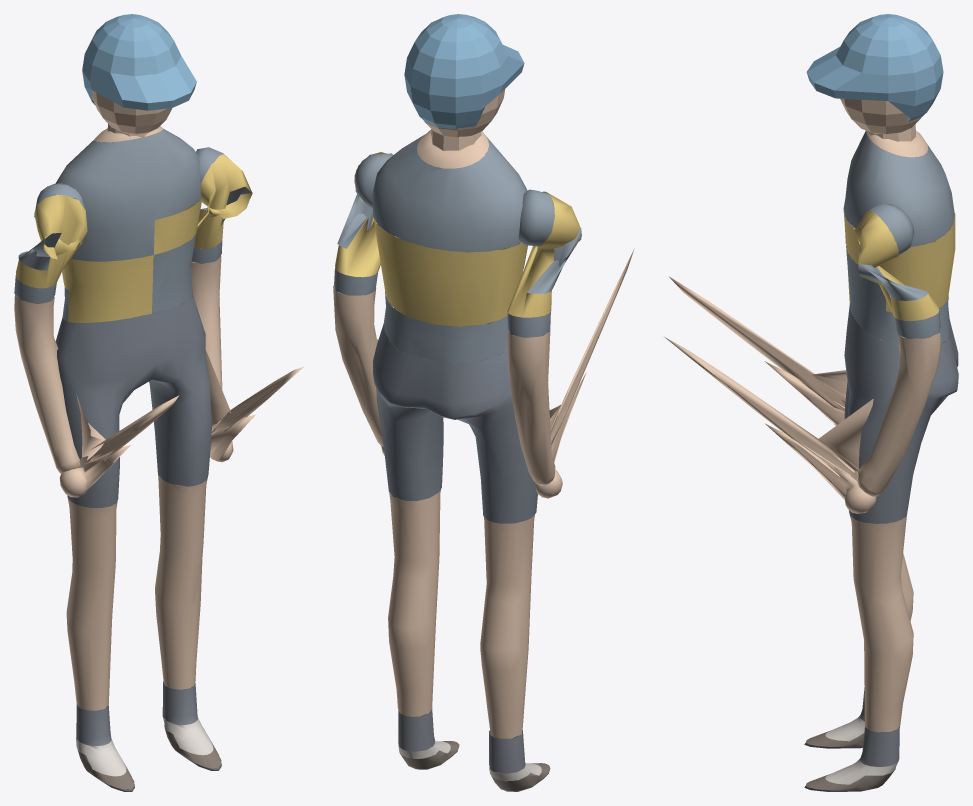
The model's file is rambla_pedestrian_2.glb.
The picture shows the model from 3 angles, left to right: view 1: azimuth 30°, elevation 25°; view 2: azimuth 150°, elevation 25°; view 3: azimuth 270°, elevation 25°; orthographic projection. The views are drawn at different scales.
Parts seen in each view (by area): view 1: rider_torso; view 2: rider_torso; view 3: rider_torso.
Boxes of the visible parts, <box> form: rider_torso: <box>14,14,304,791</box>; rider_torso: <box>333,14,634,791</box>; rider_torso: <box>664,14,958,791</box>.
Bounding box in the file's own units: 0.5084 × 1.7 × 0.6109.
